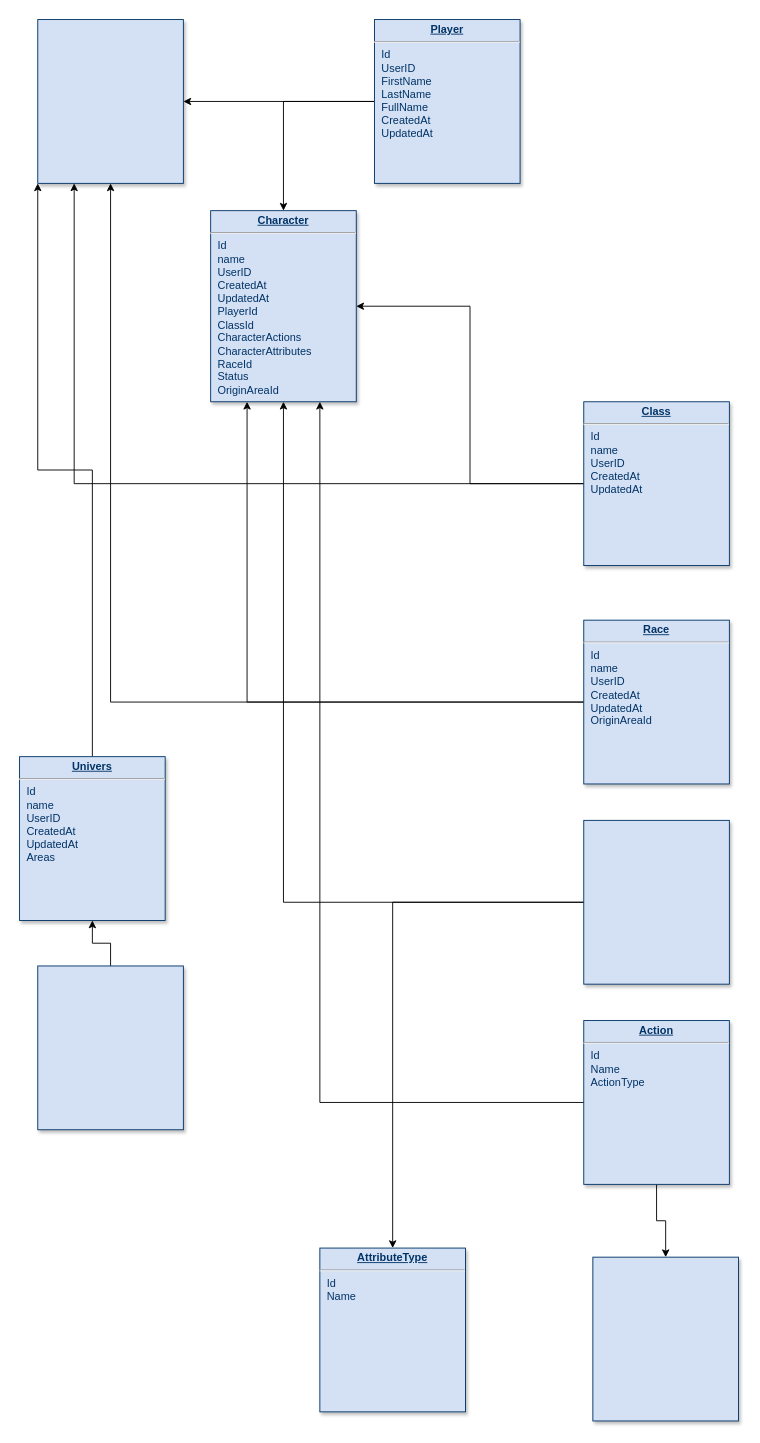
The diagram is 760 pixels wide and 1443 high, and some of its shapes have lost their labels. Here are the shapes that lost their labels. From the top down, the centre of each, then its label:
the point at 111,102: User Id Email UserName Password CreatedAt UpdatedAt Enabled
the point at 657,903: Attribute Id Name AttributeType
the point at 111,1048: Area Id name UserID CreatedAt UpdatedAt
the point at 666,1340: ActionType Id Name
